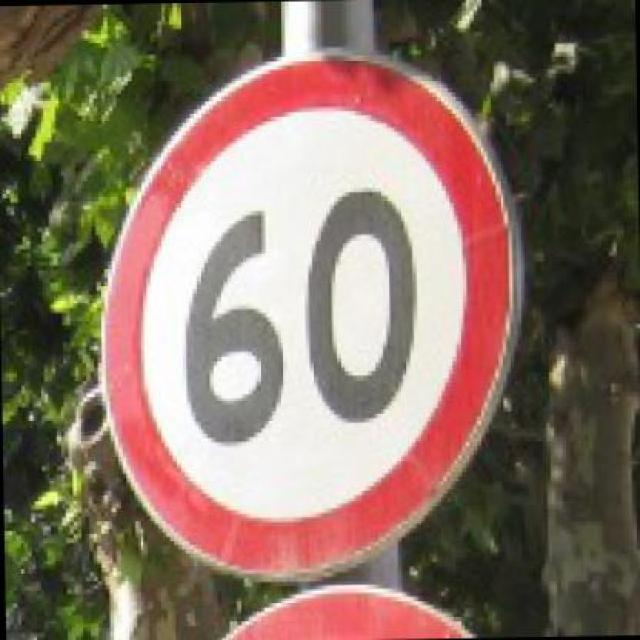Limite-60: (100, 49, 526, 587)
